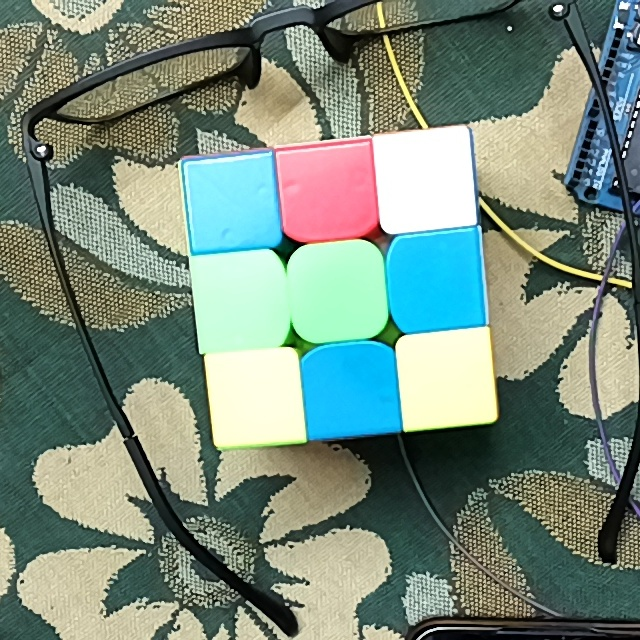tile: (284, 153, 372, 229), (405, 342, 486, 421), (200, 263, 279, 343), (388, 139, 466, 220), (399, 242, 478, 321), (194, 163, 272, 242), (298, 254, 378, 331), (309, 355, 390, 430), (217, 362, 293, 436)
